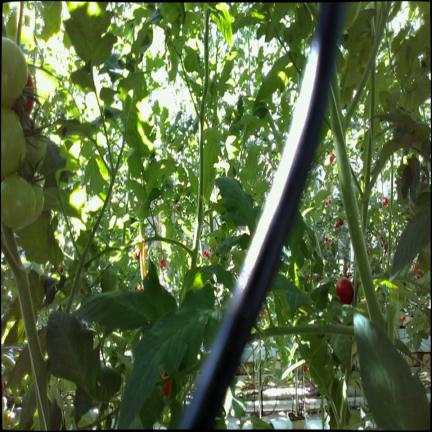6kp_petiole: (329, 66, 368, 165), (367, 120, 392, 155), (174, 237, 200, 269), (191, 96, 205, 130)
MainStem: (329, 64, 386, 330), (1, 222, 52, 431), (191, 7, 210, 267), (363, 62, 375, 191)
tomato: (1, 174, 36, 228), (1, 38, 28, 107), (1, 107, 26, 176), (26, 136, 45, 170), (31, 185, 44, 222), (336, 277, 353, 303), (26, 72, 34, 115), (164, 381, 171, 397)
